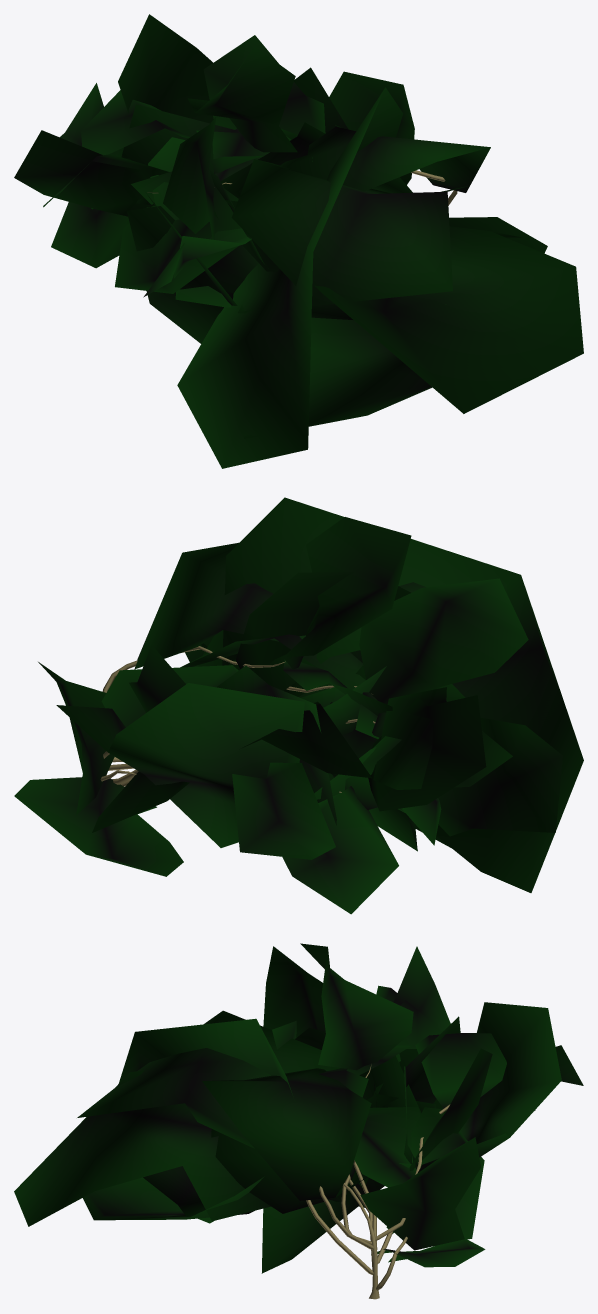
The model's file is RoseBushBigDryRHEP_C.fbx.
The picture shows the model from 3 angles, top to bottom: view 1: azimuth 30°, elevation 25°; view 2: azimuth 150°, elevation 25°; view 3: azimuth 270°, elevation 25°; orthographic projection. The views are drawn at different scales.
Visible parts, largest first — view 1: RBBDRHEPC-Leaves_LOD0; view 2: RBBDRHEPC-Leaves_LOD0, RBBDRHEPC-Branches_LOD0; view 3: RBBDRHEPC-Leaves_LOD0, RBBDRHEPC-Branches_LOD0.
Boxes of the visible parts, x1,y1,x2,y2 form: RBBDRHEPC-Leaves_LOD0: [14, 14, 583, 468]; RBBDRHEPC-Leaves_LOD0: [14, 497, 583, 914]; RBBDRHEPC-Branches_LOD0: [100, 646, 375, 792]; RBBDRHEPC-Leaves_LOD0: [14, 943, 583, 1273]; RBBDRHEPC-Branches_LOD0: [306, 1064, 450, 1299].
Size of what is drawn, in the model's own units: 2.37 by 1.97 by 3.18.
